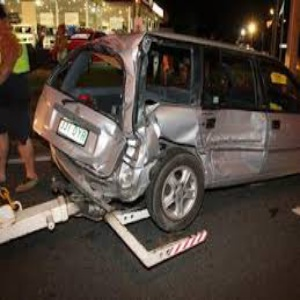bumper: (56, 152, 150, 201)
door: (213, 115, 293, 184)
